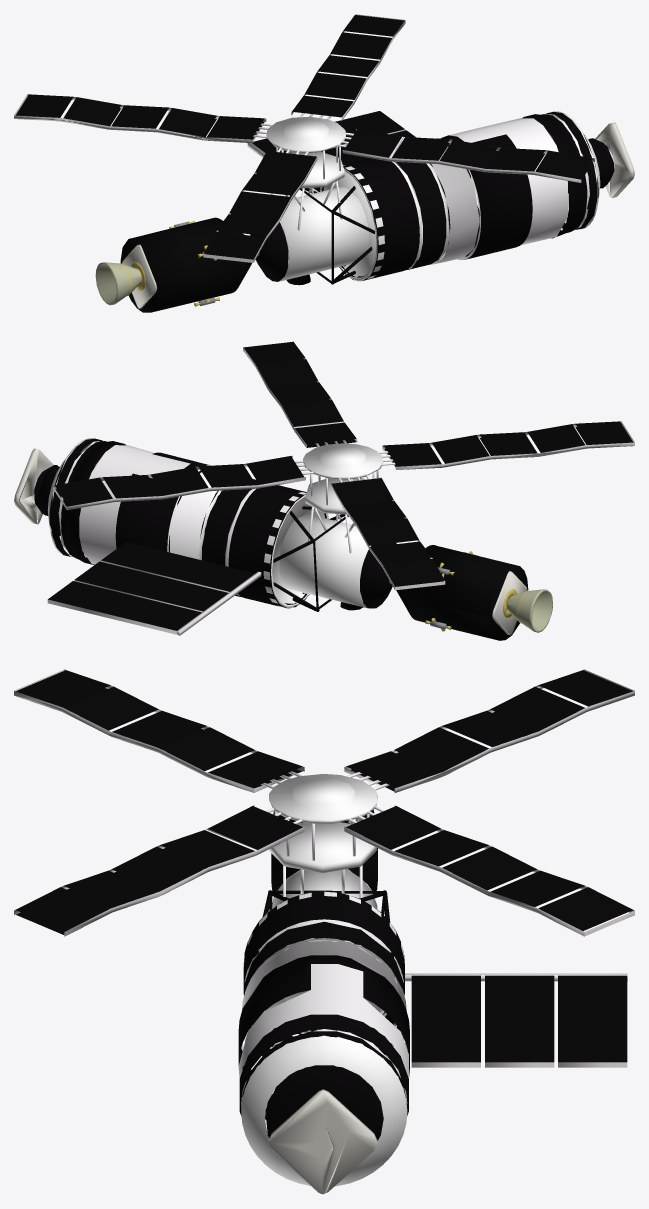
The model's file is space-skylab.glb.
The picture shows the model from 3 angles, top to bottom: view 1: azimuth 30°, elevation 25°; view 2: azimuth 150°, elevation 25°; view 3: azimuth 270°, elevation 25°; orthographic projection. The views are drawn at different scales.
Parts seen in each view (by area): view 1: polySurfac; view 2: polySurfac; view 3: polySurfac.
Boxes of the visible parts, bbox=[...] form: polySurfac: bbox=[14, 14, 634, 312]; polySurfac: bbox=[14, 341, 634, 640]; polySurfac: bbox=[14, 669, 634, 1194].
Bounding box in the file's own units: 38.74 × 11.78 × 29.85.
Materials: 4 (4 with a texture image).
